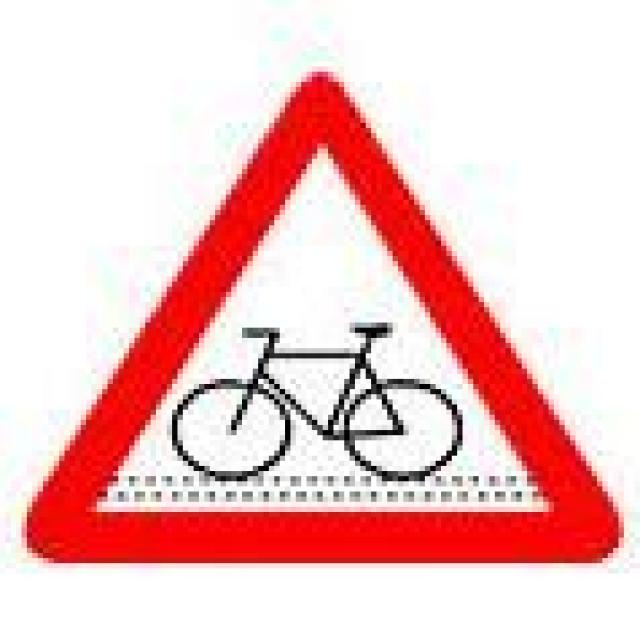CYCLE_CROSSING: (21, 62, 624, 558)
